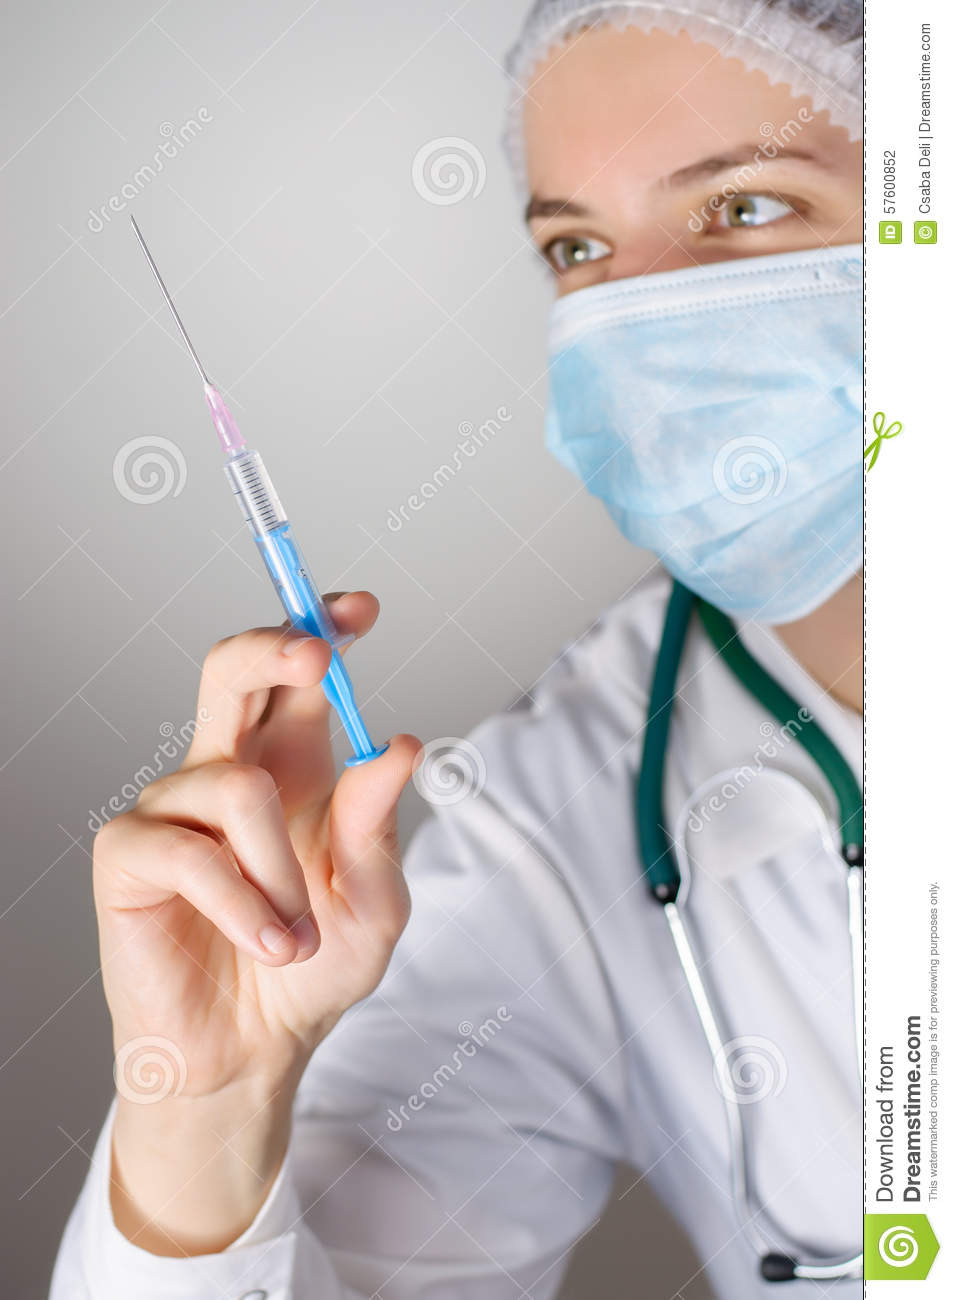mask: (522, 281, 862, 617)
